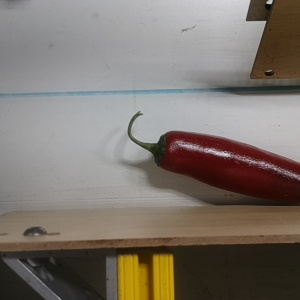Cut Point: (149, 130, 181, 172)
